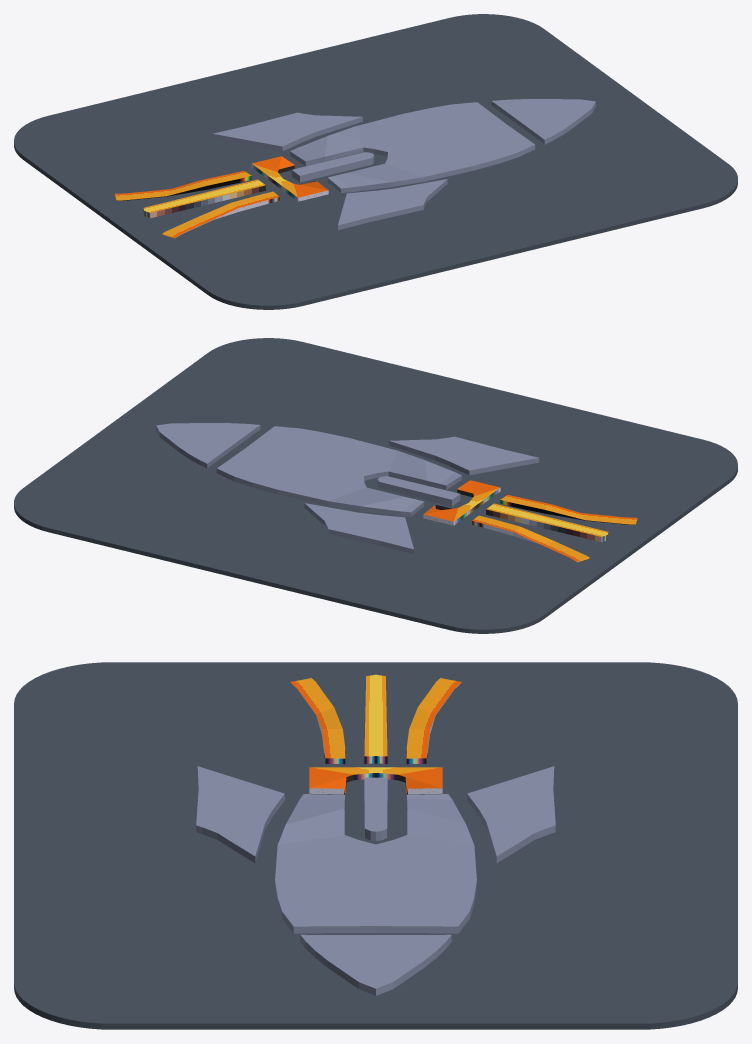
File: Rocket_icon.glb
3 renders of one model, top to bottom at view 1: azimuth 30°, elevation 25°; view 2: azimuth 150°, elevation 25°; view 3: azimuth 270°, elevation 25°, orthographic. The views are drawn at different scales.
Parts seen in each view (by area): view 1: Rocket; view 2: Rocket; view 3: Rocket.
Boxes of the visible parts, x1=… form: Rocket: x1=14, y1=14, x2=737, y2=309; Rocket: x1=14, y1=338, x2=737, y2=633; Rocket: x1=14, y1=662, x2=737, y2=1029.
Size of the model in its own units: 13 by 0.2591 by 11.
1 material, 1 textured.
